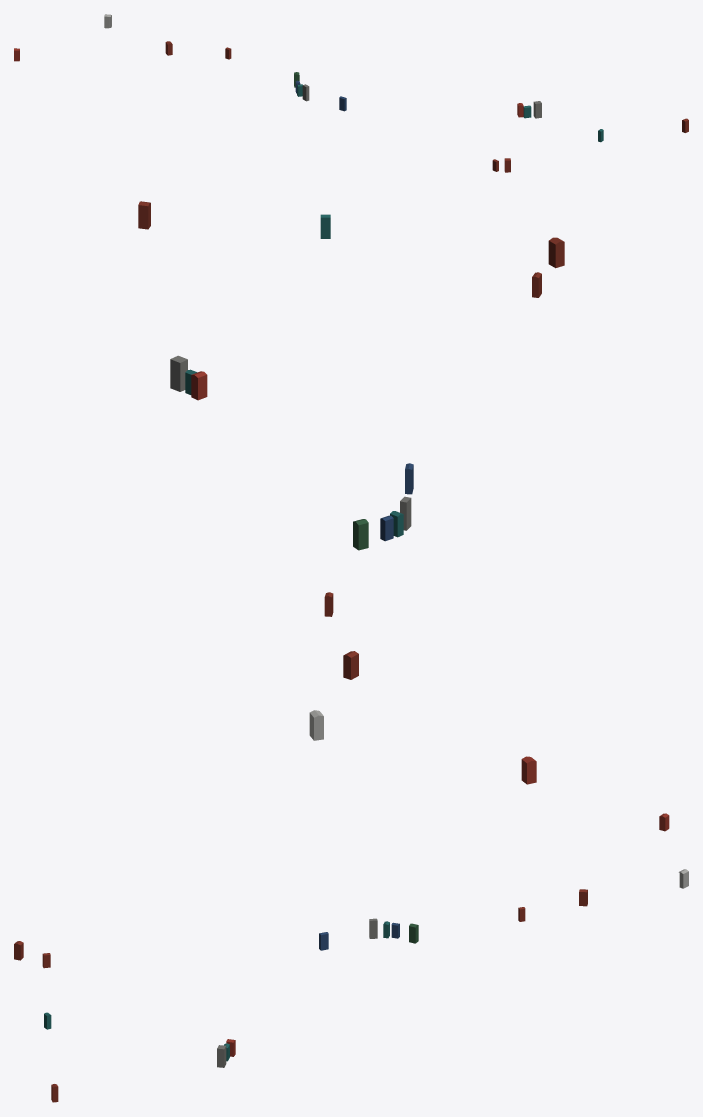
Rendered from near-15-27364-14858.dbc914cf.glb.
3 renders of one model, top to bottom at view 1: azimuth 30°, elevation 25°; view 2: azimuth 150°, elevation 25°; view 3: azimuth 270°, elevation 25°, orthographic. The views are drawn at different scales.
Bounding box in the file's own units: 757 × 71.46 × 793.
